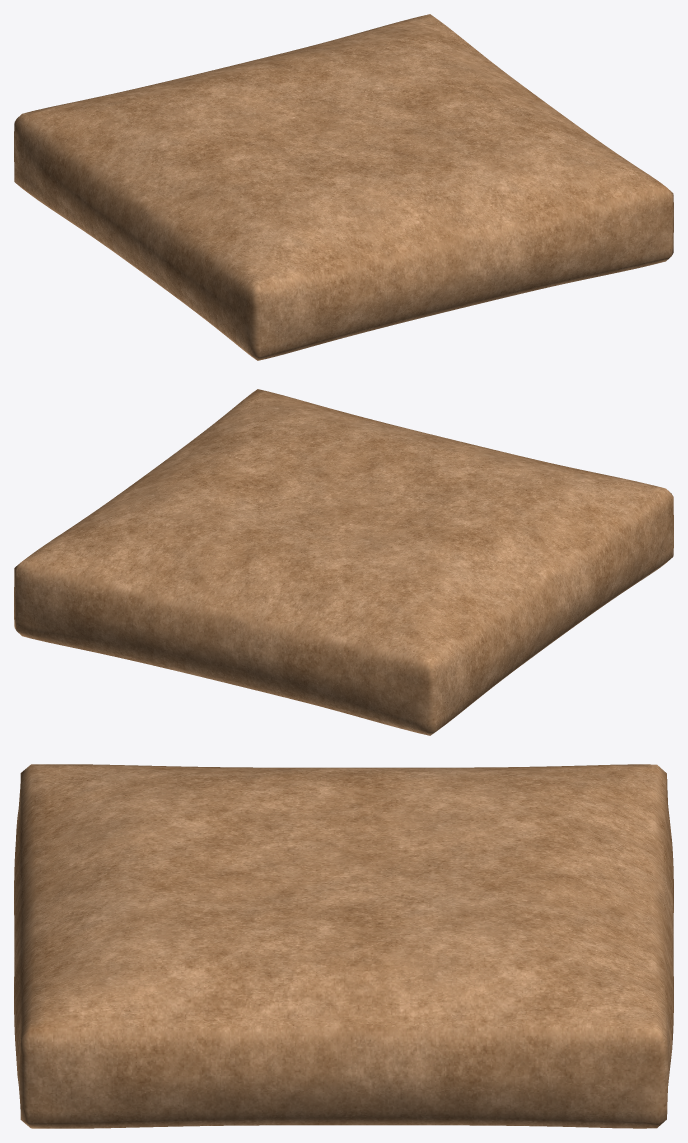
Rendered from cushion_seat.fbx.
The picture shows the model from 3 angles, top to bottom: view 1: azimuth 30°, elevation 25°; view 2: azimuth 150°, elevation 25°; view 3: azimuth 270°, elevation 25°; orthographic projection. The views are drawn at different scales.
Parts seen in each view (by area): view 1: cushion_seat2; view 2: cushion_seat2; view 3: cushion_seat2.
Boxes of the visible parts, x1,y1,x2,y2 form: cushion_seat2: (14, 14, 673, 360); cushion_seat2: (14, 389, 673, 735); cushion_seat2: (14, 764, 673, 1128).
Bounding box in the file's own units: 0.6084 × 0.1698 × 0.6094.
Materials: 1 (1 with a texture image).
